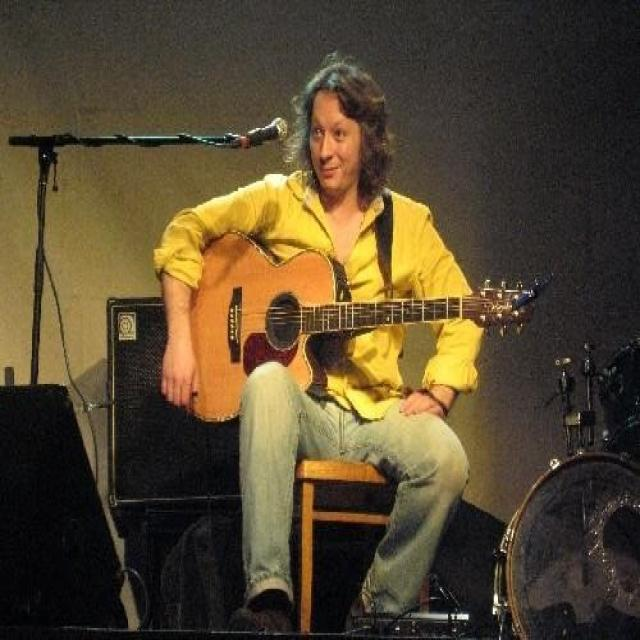drums: (491, 300, 640, 639)
guitar: (188, 230, 539, 425)
